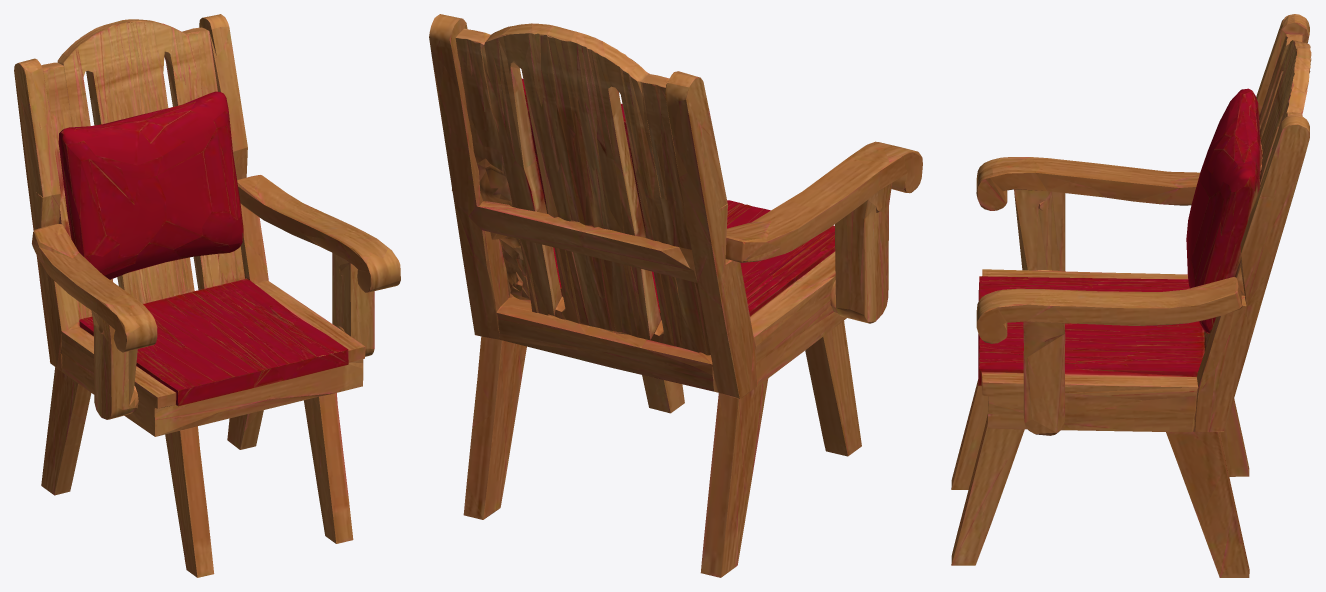
The model's file is desk_chair.glb.
3 renders of one model, left to right at view 1: azimuth 30°, elevation 25°; view 2: azimuth 150°, elevation 25°; view 3: azimuth 270°, elevation 25°, orthographic. The views are drawn at different scales.
Size of the model in its own units: 1.3 by 1.9 by 1.32.
1 material, 1 textured.
